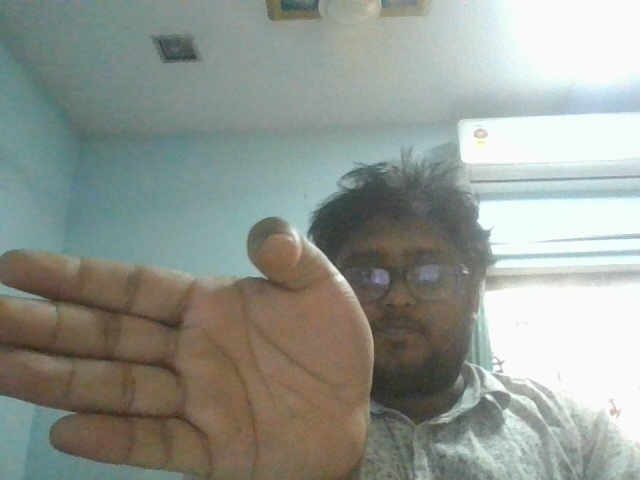RIGHT: (3, 191, 390, 480)
